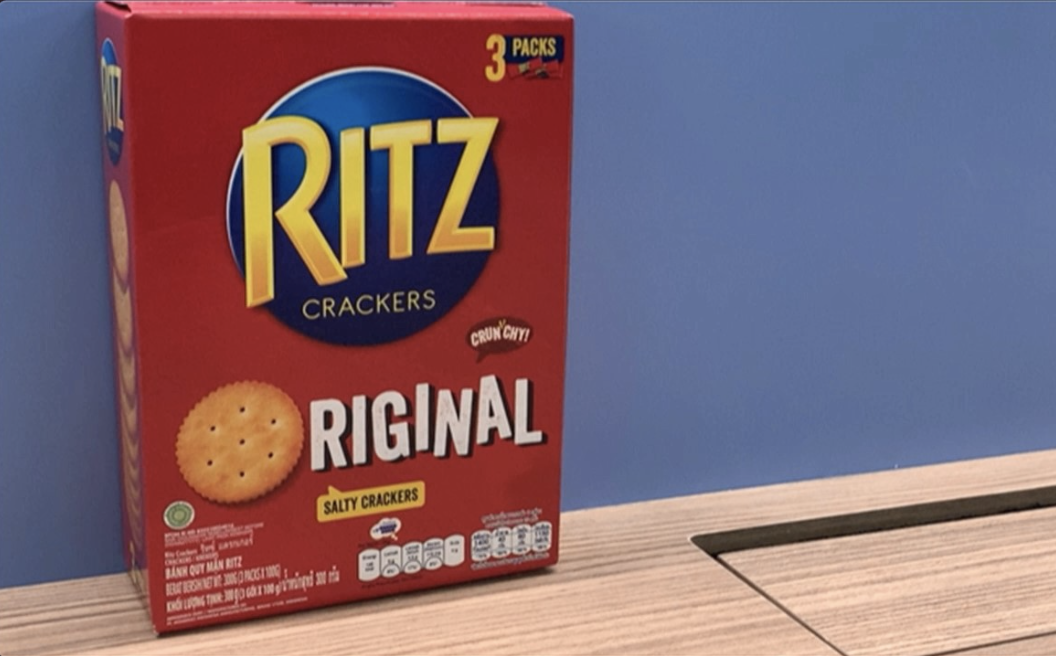crackers_450g: (143, 27, 565, 566)
